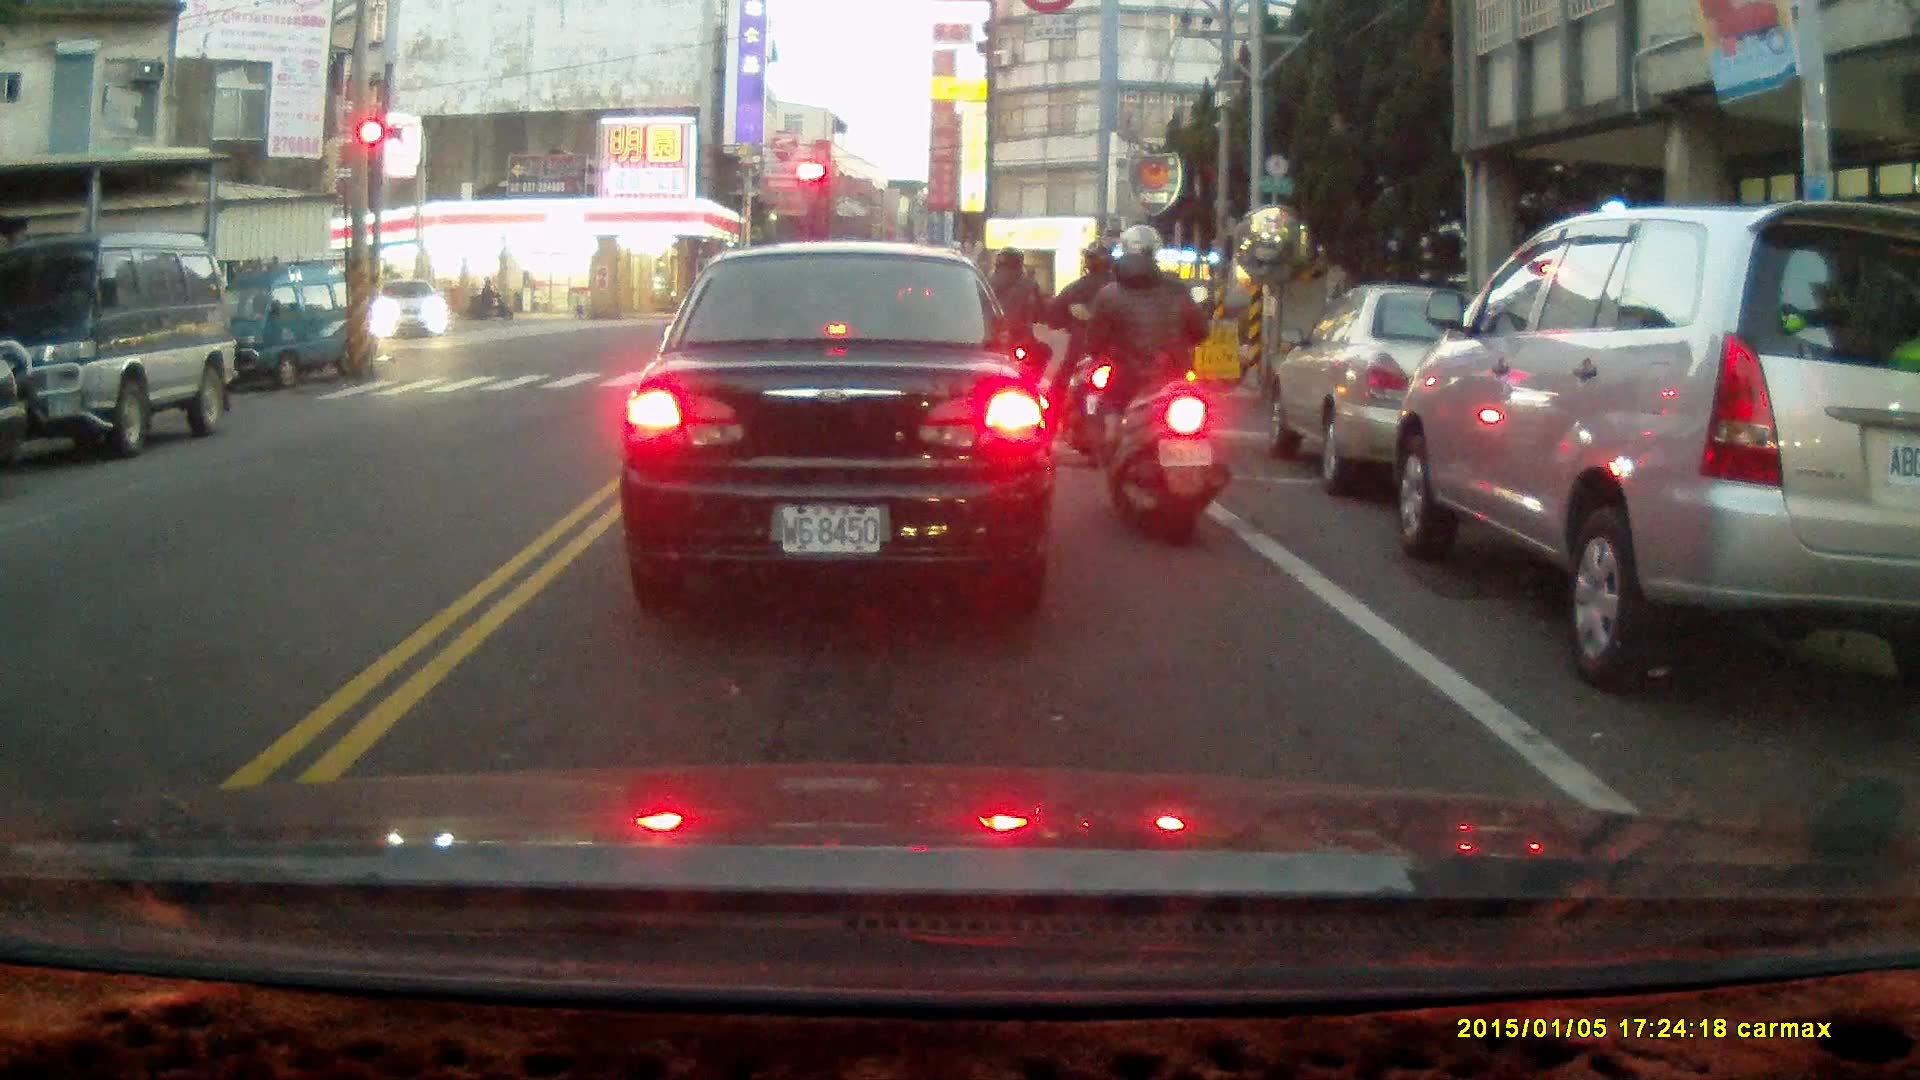rider: (1059, 223, 1233, 549), (1048, 242, 1141, 468), (961, 244, 1054, 430), (454, 278, 497, 317)
vehicle: (1389, 211, 1913, 704), (617, 243, 1061, 606), (1266, 283, 1578, 492), (1, 234, 239, 457), (189, 260, 373, 393), (372, 277, 451, 343)
